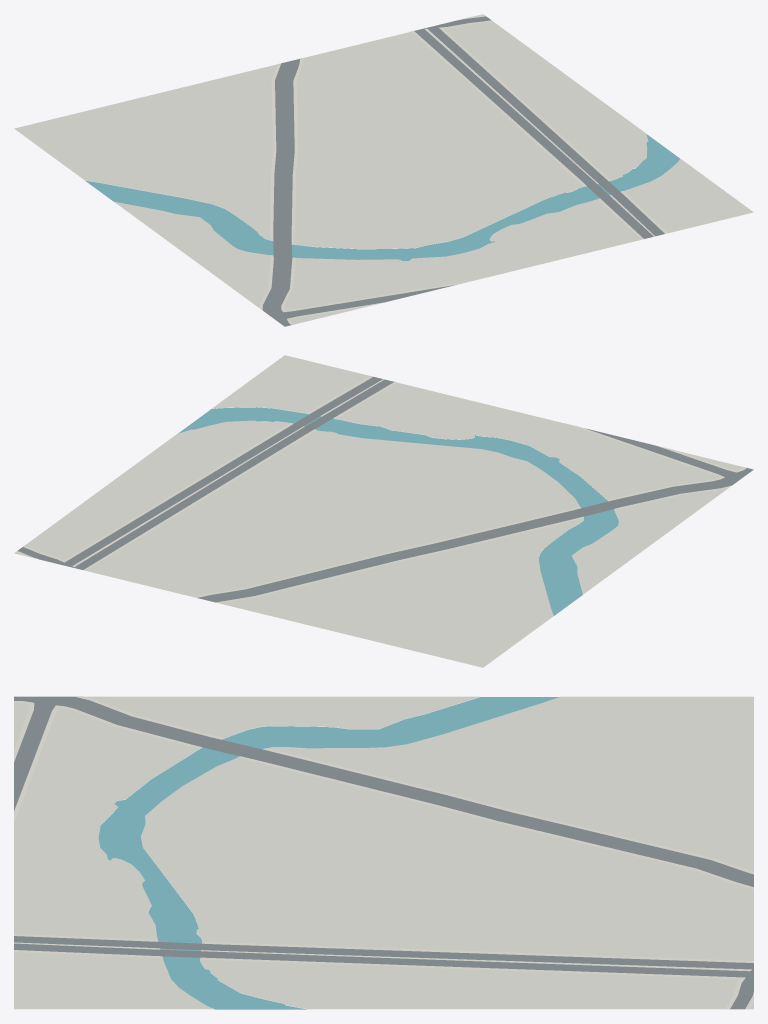
The picture shows the model from 3 angles, top to bottom: view 1: azimuth 30°, elevation 25°; view 2: azimuth 150°, elevation 25°; view 3: azimuth 270°, elevation 25°; orthographic projection. The views are drawn at different scales.
Parts seen in each view (by area): view 1: city; view 2: city; view 3: city.
Part boxes in pixels (x1=…): city: x1=14, y1=14, x2=753, y2=326; city: x1=14, y1=355, x2=753, y2=667; city: x1=14, y1=696, x2=753, y2=1009.
Bounding box in the file's own units: 500 × 0.4 × 500.
